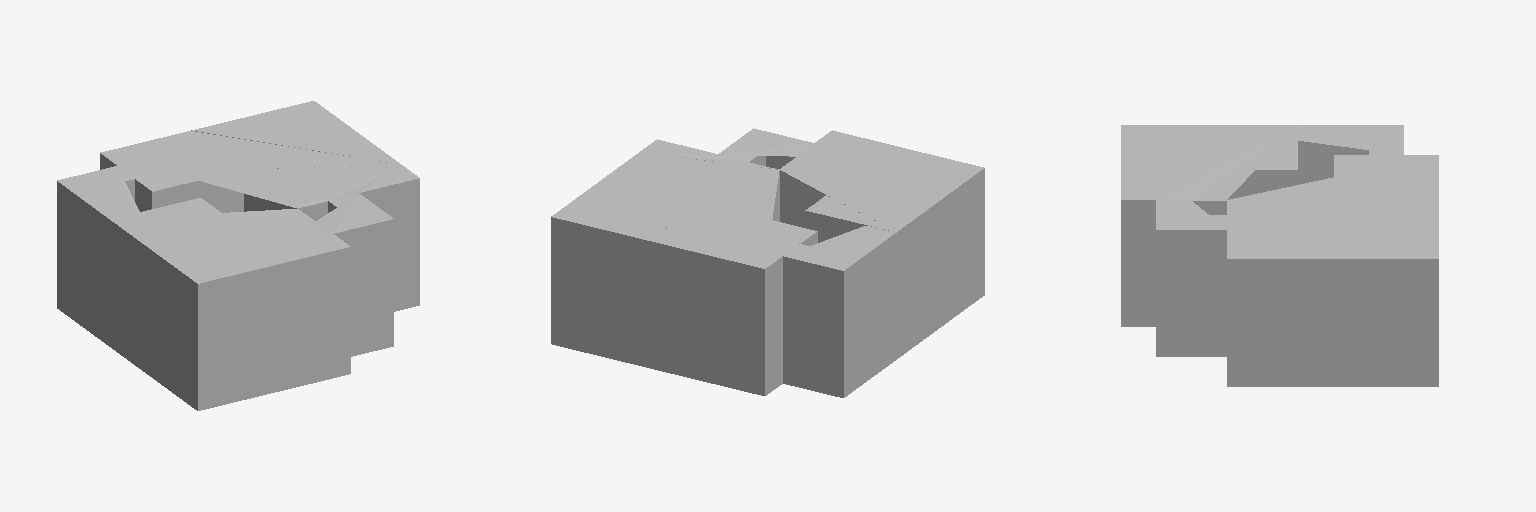
File: area2.obj
3 views of the same model, side by side, from view 1: azimuth 30°, elevation 25°; view 2: azimuth 150°, elevation 25°; view 3: azimuth 270°, elevation 25° (orthographic).
Visible parts, largest first — view 1: Plane; view 2: Plane; view 3: Plane.
Boxes of the visible parts, x1=… form: Plane: x1=57, y1=101, x2=419, y2=410; Plane: x1=551, y1=128, x2=984, y2=397; Plane: x1=1121, y1=125, x2=1438, y2=386.
Size of the model in its own units: 17.97 by 7.95 by 17.98.